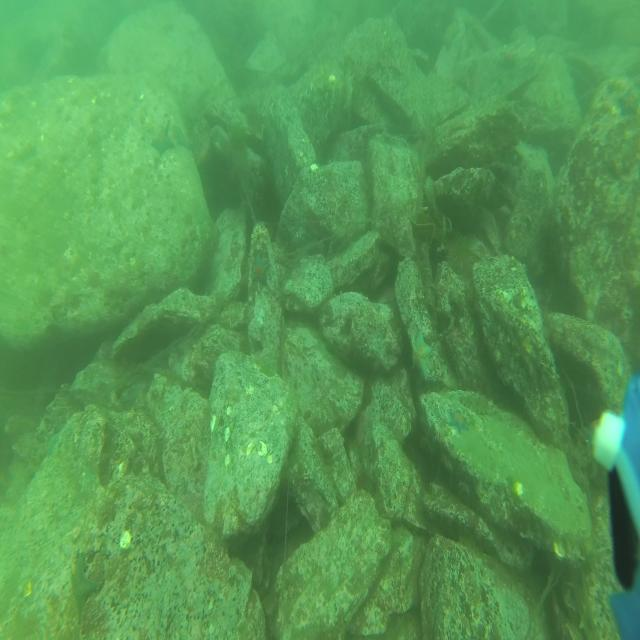echinus: (443, 230, 478, 283), (225, 116, 248, 157)
starfish: (67, 553, 100, 625), (407, 328, 434, 381), (150, 121, 176, 158), (618, 83, 640, 119), (442, 15, 462, 52), (250, 254, 269, 288), (498, 45, 520, 70), (449, 406, 467, 435)
